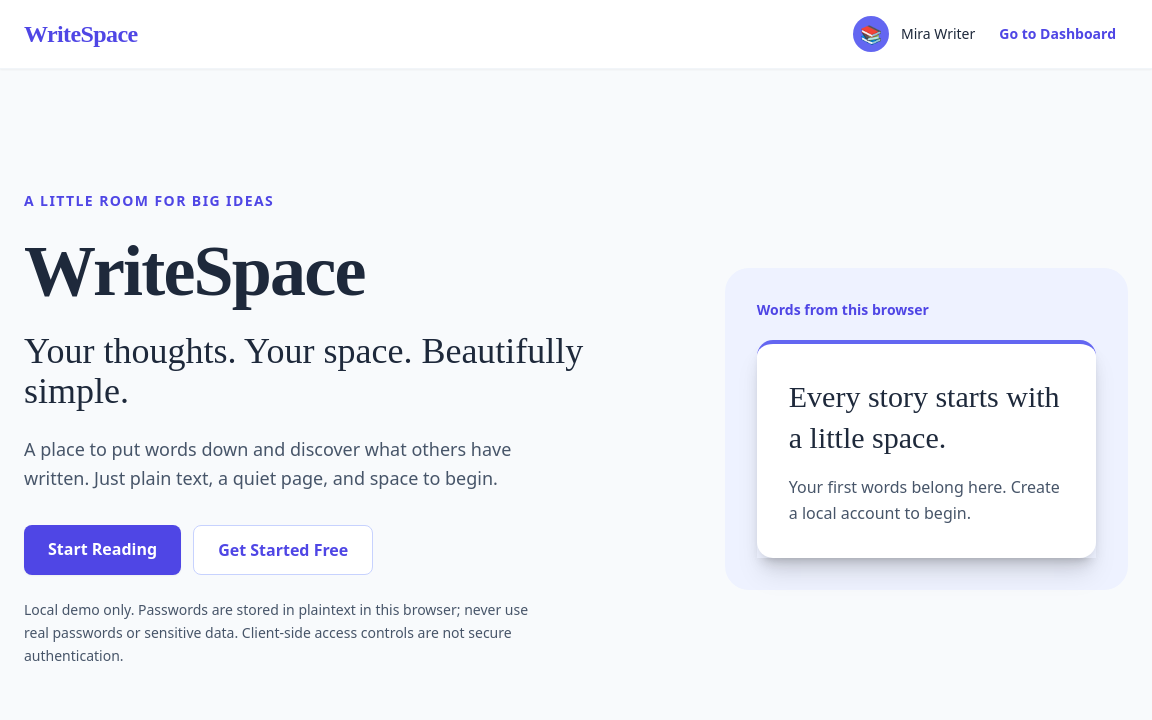
public landing and App wiring › public account action respects role home 0
The width and height of the screenshot is (1152, 720).
Expected: the text "Mira Writer" is shown, [901,24,975,44]
Click the link "Go to Dashboard".
click(1058, 34)  # box [999,24,1116,43]
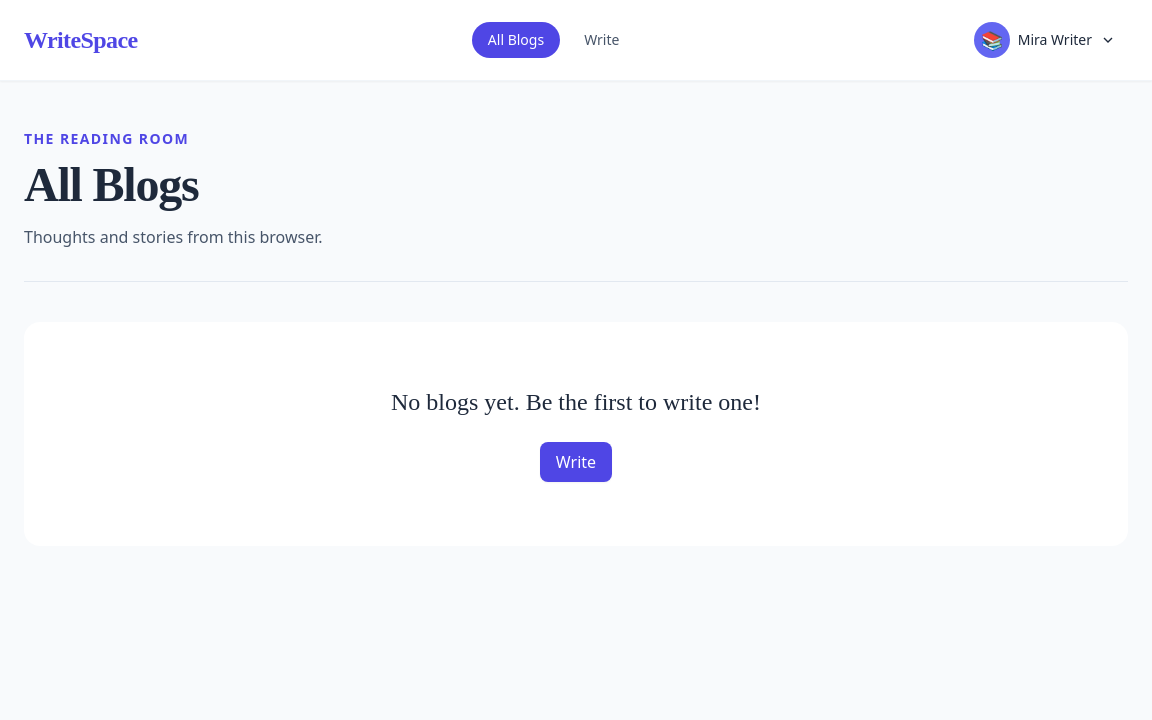
Expected: the heading "All Blogs" is shown, [24,158,199,211]
